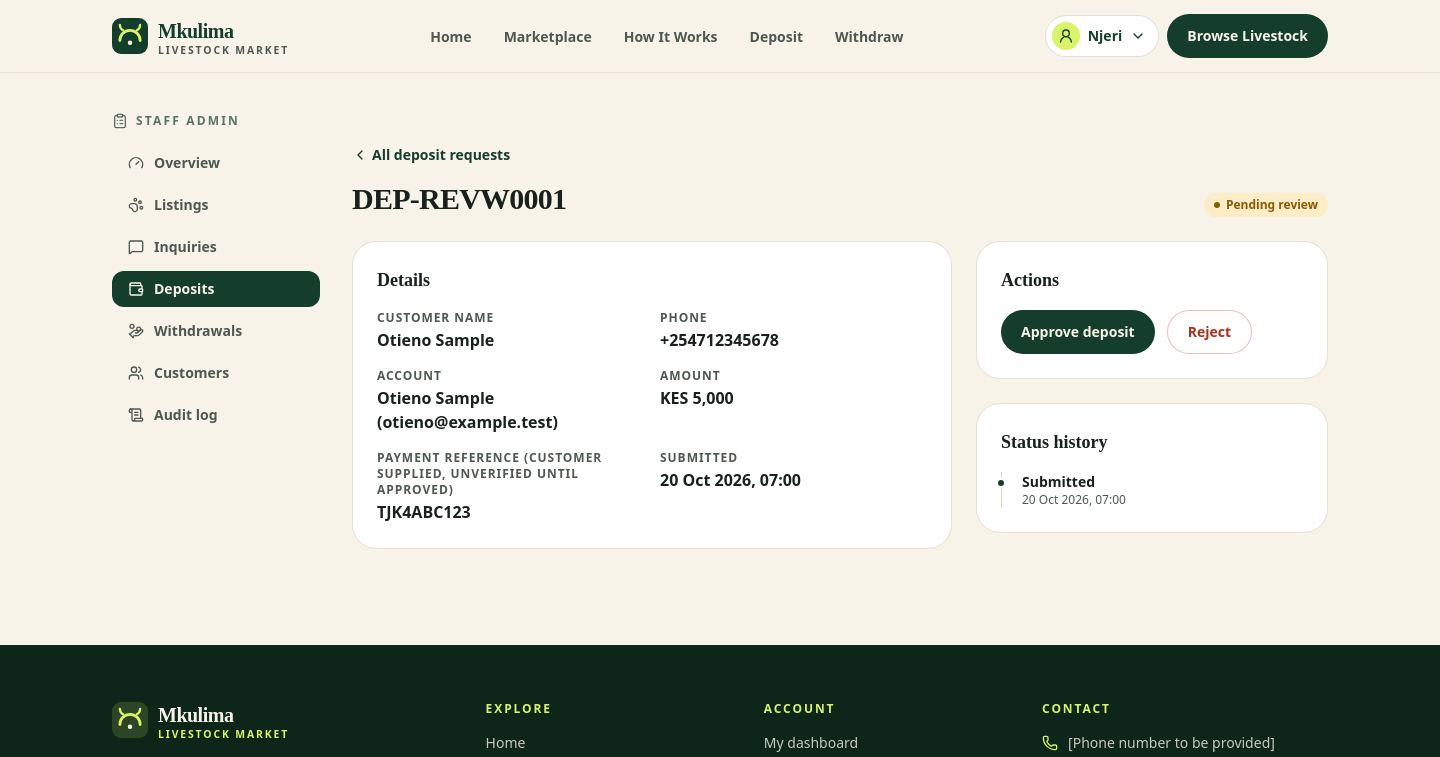
Test: Staff admin › approves a deposit only after the reviewer confirms the statement check
Click the button "Approve deposit" at (1078, 332), box [1001, 310, 1155, 354]
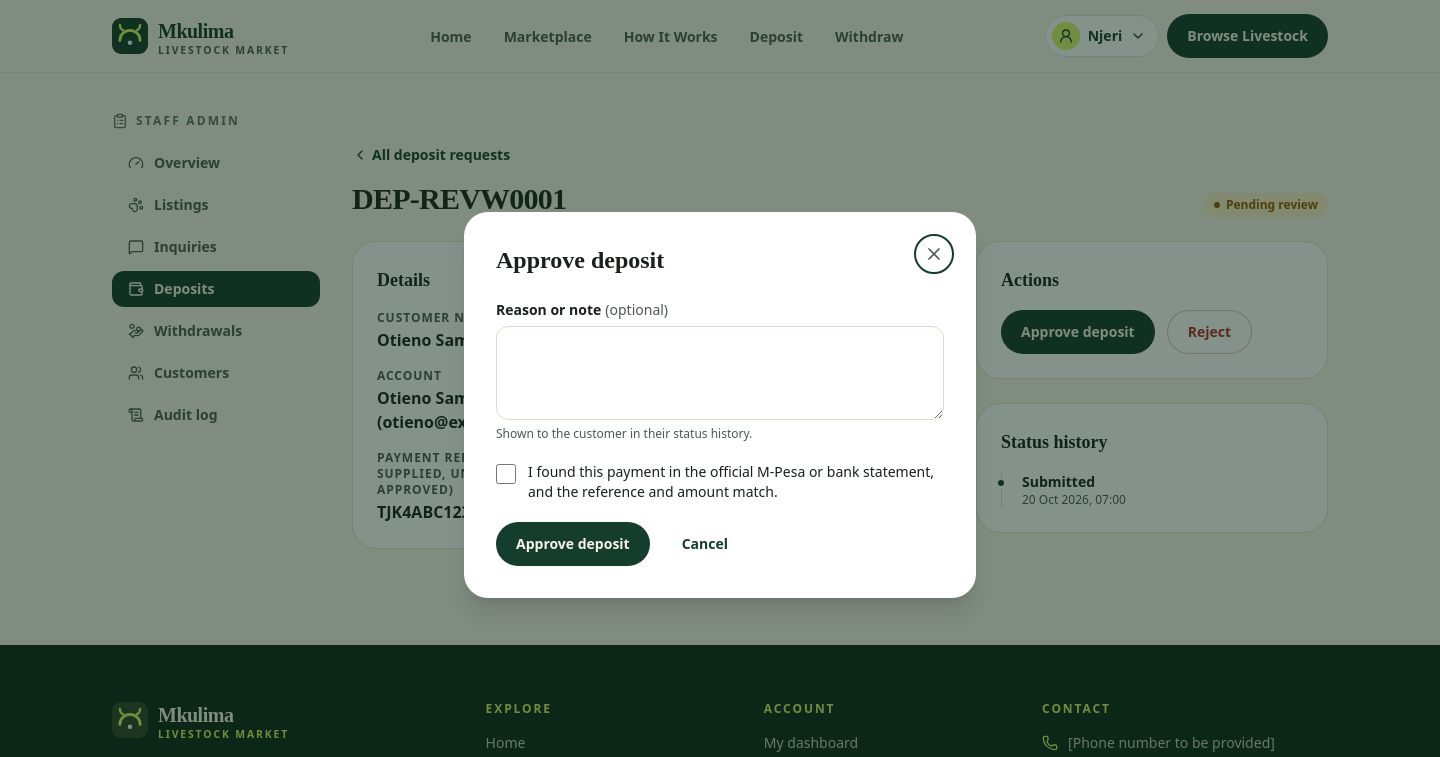
Click the button "Approve deposit" at (573, 544), box [496, 522, 650, 566]
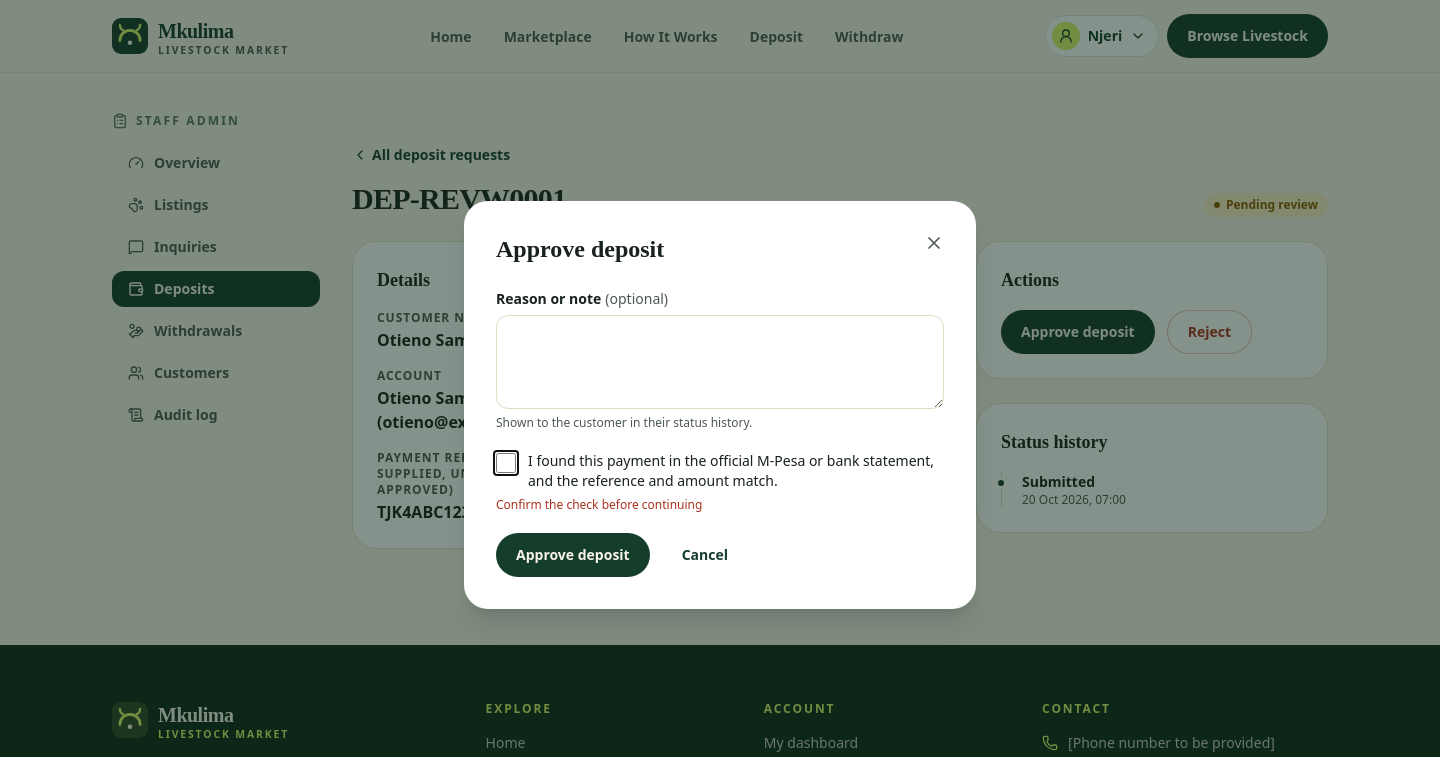
expect the text "Confirm the check before continuing" is shown: met, box [496, 496, 702, 513]
Click the checkbox at (506, 463), box [496, 453, 516, 473]
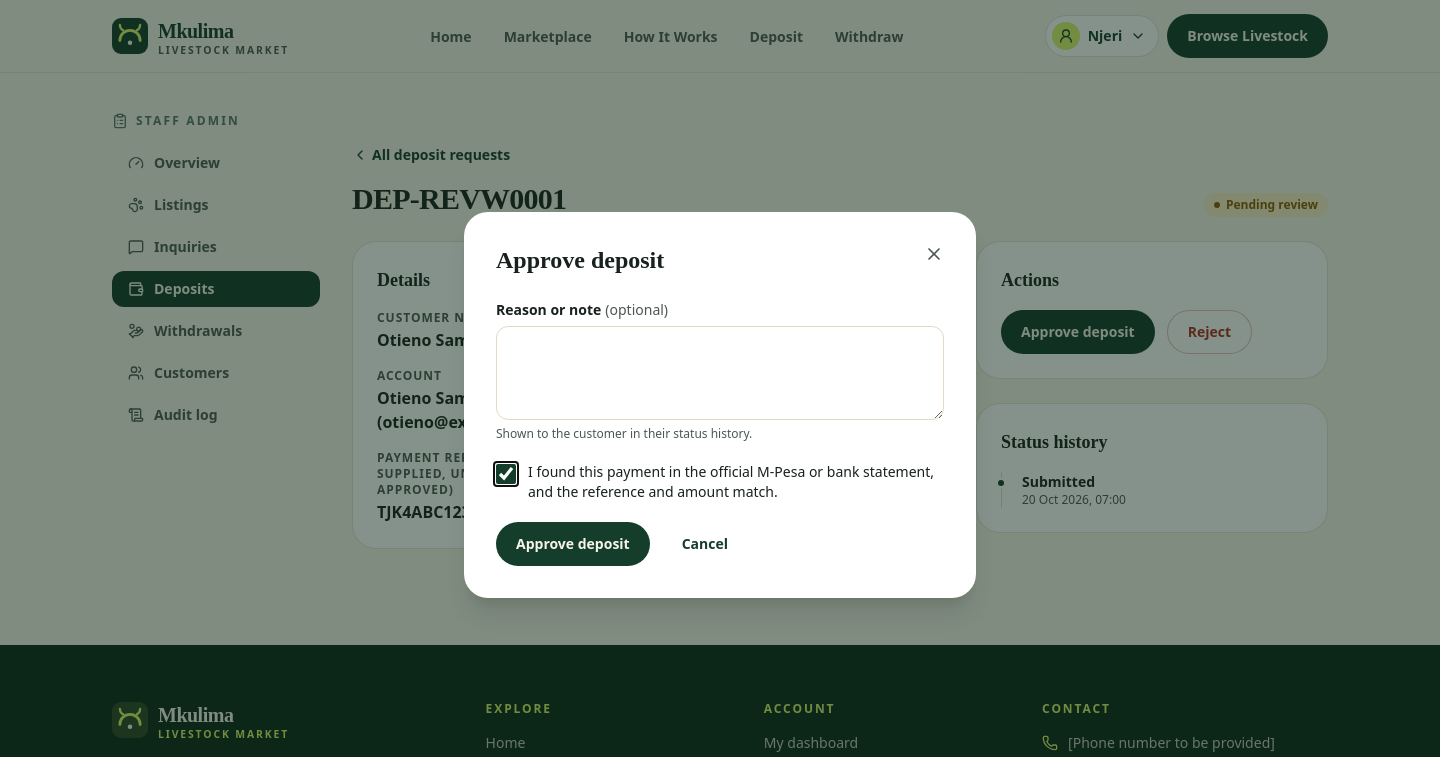
Click the button "Approve deposit" at (573, 544), box [496, 522, 650, 566]
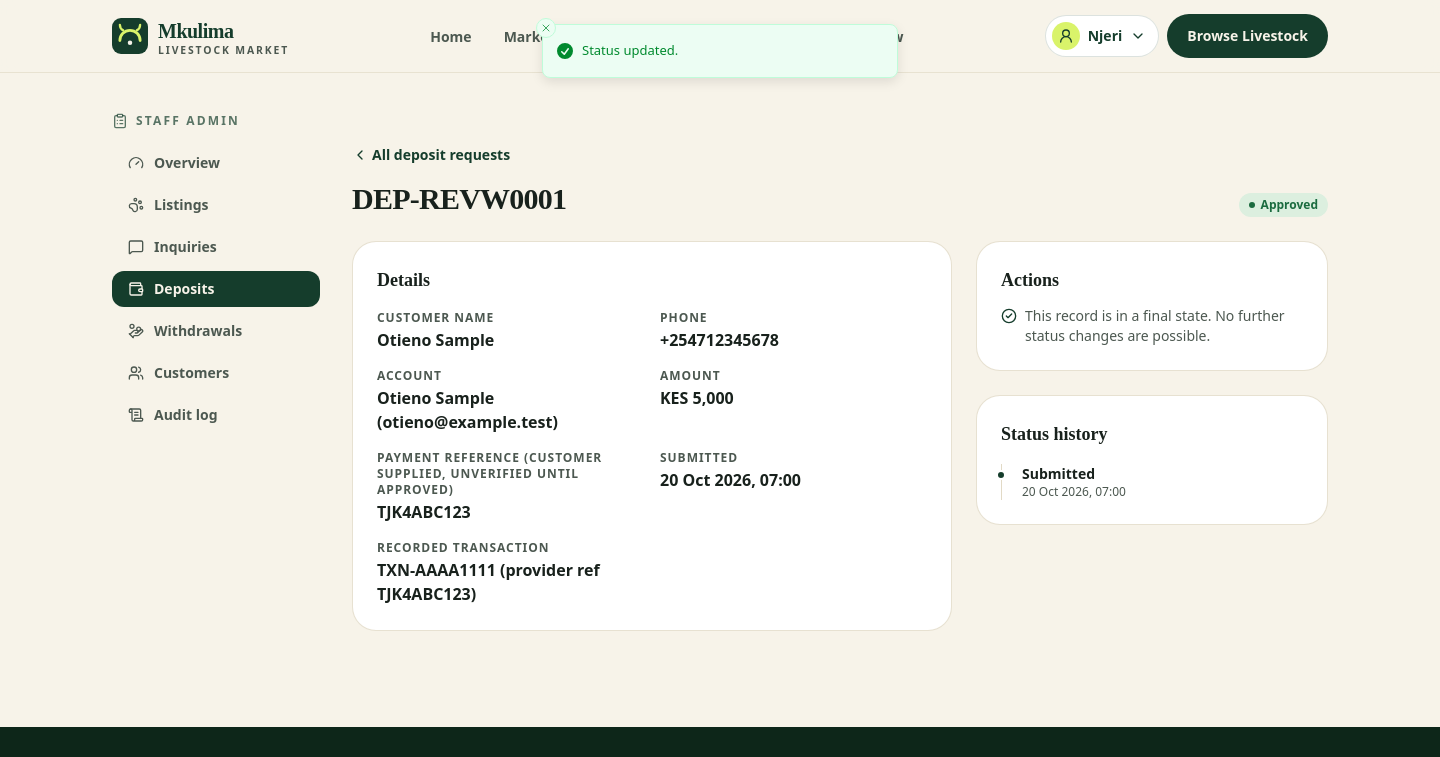
expect the dialog is gone: met
expect the text "This record is in a final state" is shown: met, box [1025, 306, 1285, 345]
expect the text "TXN-AAAA1111 (provider ref TJK4ABC123)" is shown: met, box [377, 559, 600, 605]
